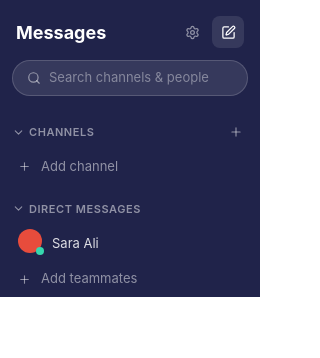
Scenario: Sidebar actions › surfaces a failed direct message request without navigating or leaving the button disabled
Click the button "Sara Ali" at (130, 243), box [8,225,252,261]
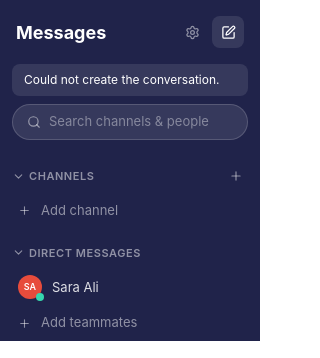
Expected: the button "SA Sara Ali" is enabled, [8,269,252,305]
Result: the message reads "Could not create the conversation." at [24,72,220,87]
